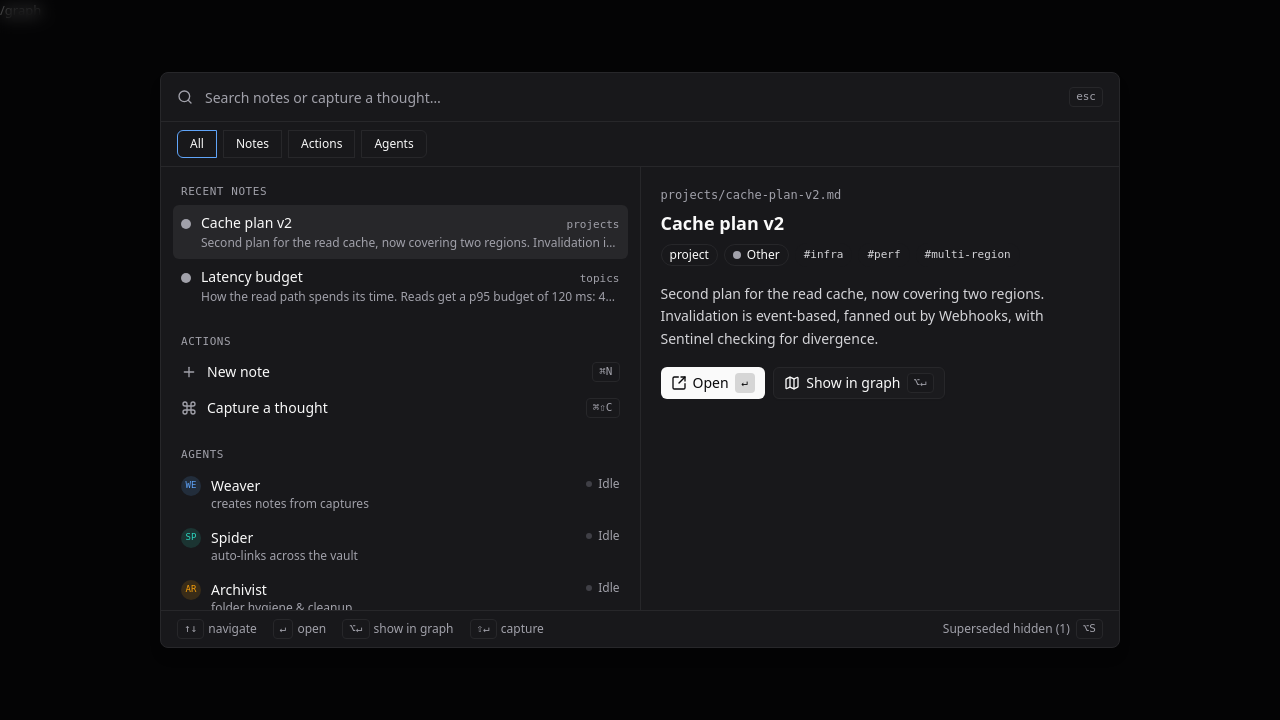
Test: CommandPalette › searches, times the request and explains the top match
Type "cache" into the dropdown named "Search notes, actions and agents" at (631, 97), box [205,73,1057,121]
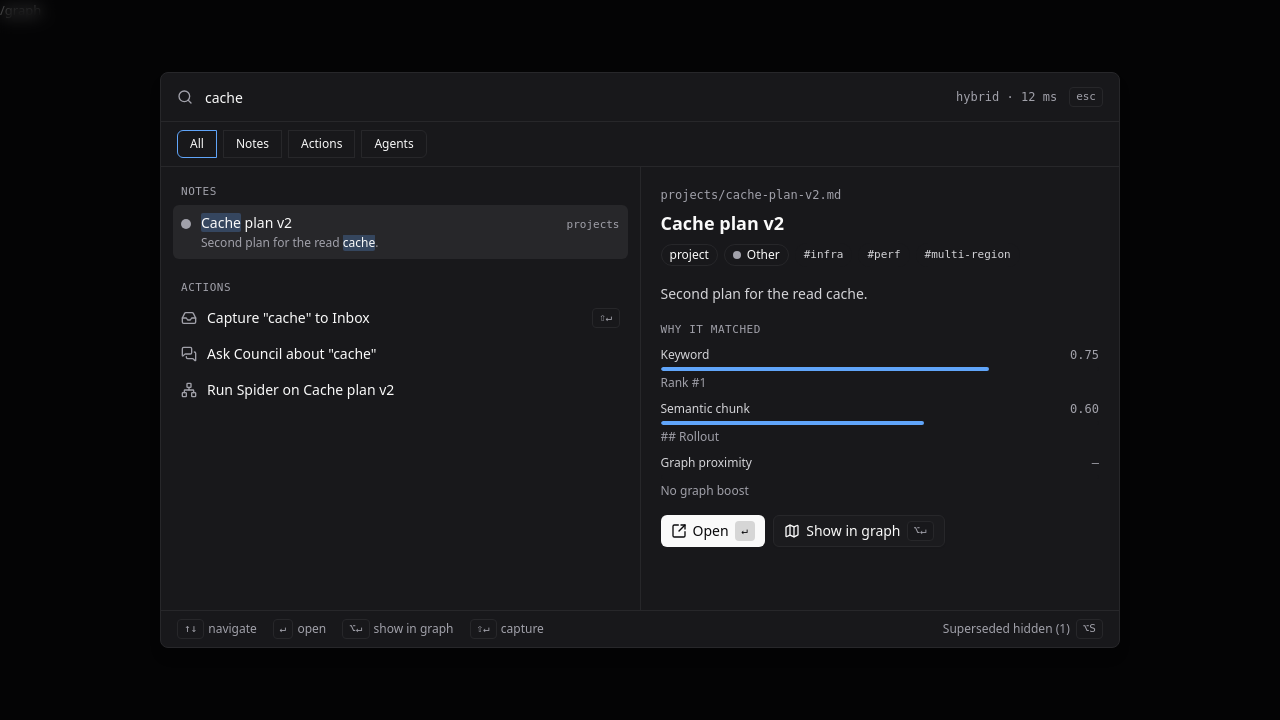
Expected: the text "hybrid · 12 ms" is shown, [956,89,1057,105]
Expected: the heading "Why it matched" is shown, [660,323,761,336]
Expected: the text "0.75" is shown, [1070,347,1099,363]
